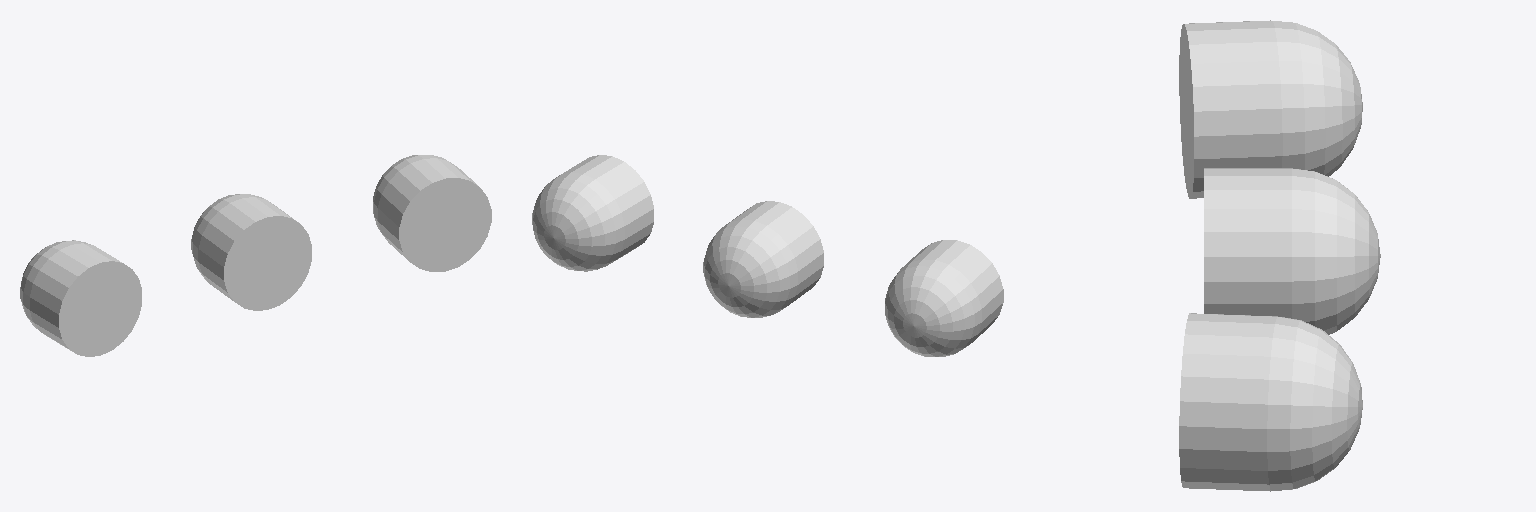
URDF robot description (allegro_hand_right):
<?xml version="1.0" ?>
<!-- =================================================================================== -->
<!-- |    This document was autogenerated by xacro from allegro_hand_description_right.xacro | -->
<!-- |    EDITING THIS FILE BY HAND IS NOT RECOMMENDED                                 | -->
<!-- =================================================================================== -->
<robot name="allegro_hand_right">
  <link name="world"/>
  <link name="palm_link_floating"/>
  <joint name="arm_to_world_floating" type="floating">
    <parent link="world"/>
    <child link="palm_link_floating"/>
    <origin xyz="0 0 0" rpy="0 0 0" />
  </joint>


    <!-- <origin xyz="0 0.02 -0.015" rpy="-1.5707963267948966 -1.5707963267948966 0" /> -->

  <joint name="floating_to_palm" type="fixed">
    <parent link="palm_link_floating"/>
    <child link="palm_link"/>
    <origin xyz="0 0.02 -0.015" rpy="-1.5707963267948966 -1.5707963267948966 0" />
  </joint> 

  <!-- ======================== BASE PARAMS ========================= -->
  <!-- ======================== FINGER PARAMS ======================== -->
  <!-- full height from joint to tip. when used,
    the radius of the finger tip sphere will be subtracted
    and one fixed link will be added for the tip. -->
  <!-- ========================= THUMB PARAMS ========================= -->
  <!-- ========================= LIMITS ========================= -->
  <!-- ============================================================================= -->
  <!-- PALM -->
  <link name="palm_link">
    <visual>
      <geometry>
        <mesh filename="meshes/base_link.STL"/>
      </geometry>
      <origin rpy="0 0 0" xyz="0 0 0 "/>
      <material name="black">
        <color rgba="0.2 0.2 0.2 1"/>
      </material>
    </visual>
    <collision>
      <origin rpy="0 0 0" xyz="-0.009300 0 -0.0475"/>
      <geometry>
        <box size="0.0408 0.1130 0.095"/>
        <!-- <sphere radius="0.002"/> -->
      </geometry>
    </collision>
    <inertial>
      <origin rpy="0 0 0" xyz="0 0 0.0475"/>
      <mass value="0.4154"/>
      <inertia ixx="1e-4" ixy="0.0" ixz="0.0" iyy="1e-4" iyz="0.0" izz="1e-4"/>
    </inertial>
  </link>
  <!-- ============================================================================= -->
  <!-- FINGERS -->
  <!-- RIGHT HAND due to which finger is number 0 -->
  <!-- for LEFT HAND switch the sign of the **offset_origin_y** and **finger_angle_r** parameters-->
  <!-- [LINK 0, 4, 8] -->
  <link name="link_0.0">
    <visual>
      <geometry>
        <mesh filename="meshes/link_0.0.STL"/>
      </geometry>
      <material name="black"/>
    </visual>
    <collision>
      <geometry>
        <box size="0.0196 0.0275 0.0164"/>
        <!-- <sphere radius="0.002"/> -->
      </geometry>
      <origin rpy="0 0 0" xyz="0 0 0.0082"/>
    </collision>
    <inertial>
      <mass value="0.0119"/>
      <origin rpy="0 0 0" xyz="0 0 0"/>
      <inertia ixx="1.01666658333e-06" ixy="0.0" ixz="0.0" iyy="6.47677333333e-07" iyz="0.0" izz="1.01666658333e-06"/>
    </inertial>
  </link>
  <joint name="joint_0.0" type="revolute">
    <axis xyz="0 0 1"/>
    <limit effort="15" lower="-0.47" upper="0.47" velocity="7"/>
    <parent link="palm_link"/>
    <child link="link_0.0"/>
    <origin rpy="-0.08726646255 0 0" xyz="0 0.0435 -0.001542"/>
    <dynamics damping="0.0414019" friction="0.0523963"/>
  </joint>
  <!-- [LINK 1, 5, 9] -->
  <link name="link_1.0">
    <visual>
      <geometry>
        <mesh filename="meshes/link_1.0.STL"/>
      </geometry>
      <material name="black"/>
    </visual>
    <collision>
      <geometry>
        <box size="0.0196 0.0275 0.054"/>
        <!-- <sphere radius="0.002"/> -->
      </geometry>
      <origin rpy="0 0 0" xyz="0 0 0.027"/>
    </collision>
    <inertial>
      <mass value="0.065"/>
      <origin rpy="0 0 0" xyz="0 0 0"/>
      <inertia ixx="7.95654166667e-05" ixy="1.7199e-05" ixz="8.75875e-06" iyy="2.47088833333e-05" iyz="2.413125e-05" izz="7.95654166667e-05"/>
    </inertial>
  </link>
  <joint name="joint_1.0" type="revolute">
    <limit effort="15" lower="-0.196" upper="1.61" velocity="7"/>
    <axis xyz="0 1 0"/>
    <parent link="link_0.0"/>
    <child link="link_1.0"/>
    <origin xyz="0 0 0.0164"/>
    <dynamics damping="0.00587541" friction="0.0150275"/>
  </joint>
  <!-- [LINK 2, 6, 10]-->
  <link name="link_2.0">
    <visual>
      <geometry>
        <mesh filename="meshes/link_2.0.STL"/>
      </geometry>
      <material name="black"/>
    </visual>
    <collision>
      <geometry>
        <box size="0.0196 0.0275 0.0384"/>
        <!-- <sphere radius="0.002"/> -->
      </geometry>
      <origin rpy="0 0 0" xyz="0 0 0.0192"/>
    </collision>
    <inertial>
      <mass value="0.0355"/>
      <origin rpy="0 0 0" xyz="0 0 0"/>
      <inertia ixx="2.63979183333e-05" ixy="6.67968e-06" ixz="4.783625e-06" iyy="1.34948516667e-05" iyz="9.372e-06" izz="2.63979183333e-05"/>
    </inertial>
  </link>
  <joint name="joint_2.0" type="revolute">
    <axis xyz="0 1 0"/>
    <limit effort="15" lower="-0.174" upper="1.709" velocity="7"/>
    <parent link="link_1.0"/>
    <child link="link_2.0"/>
    <origin xyz="0 0 0.054"/>
    <dynamics damping="0.010638" friction="0.00616359"/>
  </joint>
  <!-- [LINK 3, 7, 11] -->
  <link name="link_3.0">
    <visual>
      <geometry>
        <mesh filename="meshes/link_3.0.STL"/>
      </geometry>
      <material name="black"/>
    </visual>
    <collision>
      <geometry>
        <box size="0.0196 0.0275 0.01335"/>
        <!-- <sphere radius="0.002"/> -->
      </geometry>
      <origin rpy="0 0 0" xyz="0 0 0.006675"/>
    </collision>
    <inertial>
      <mass value="0.0096"/>
      <origin rpy="0 0 0" xyz="0 0 0"/>
      <inertia ixx="4.701248e-06" ixy="1.255968e-06" ixz="1.2936e-06" iyy="3.649312e-06" iyz="1.7622e-06" izz="4.701248e-06"/>
    </inertial>
  </link>
  <joint name="joint_3.0" type="revolute">
    <axis xyz="0 1 0"/>
    <limit effort="15" lower="-0.227" upper="1.618" velocity="7"/>
    <parent link="link_2.0"/>
    <child link="link_3.0"/>
    <origin xyz="0 0 0.0384"/>
    <dynamics damping="0.0226948" friction="0.0227036"/>
  </joint>
  <!-- [FINGER TIP] -->
  <link name="link_3.0_tip">
    <visual>
      <geometry>
        <mesh filename="meshes/link_3.0_tip_offset.STL"/>
      </geometry>
      <material name="white">
        <color rgba=".9 .9 .9 1"/>
      </material>
    </visual>
    <collision>
      <geometry>
        <sphere radius="0.014"/>
      </geometry>
      <origin rpy="0 0 0" xyz="0 0 0.0"/>
    </collision>
    <inertial>
      <mass value="0.0168"/>
      <origin rpy="0 0 0" xyz="0 0 0"/>
      <inertia ixx="9.68e-07" ixy="0" ixz="0" iyy="9.68e-07" iyz="0" izz="9.68e-07"/>
    </inertial>
    <!-- <contact>
			<friction_anchor/>
			<stiffness value="30000.0"/>
			<damping value="1000.0"/>
			<spinning_friction value="0.1"/>
			<lateral_friction value="1.0"/>
		</contact> -->
  </link>
  <joint name="joint_3.0_tip" type="fixed">
    <parent link="link_3.0"/>
    <child link="link_3.0_tip"/>
    <origin rpy="0 0 0" xyz="0 0 0.0287"/>
  </joint>
  <!-- [LINK 0, 4, 8] -->
  <link name="link_4.0">
    <visual>
      <geometry>
        <mesh filename="meshes/link_0.0.STL"/>
      </geometry>
      <material name="black"/>
    </visual>
    <collision>
      <geometry>
        <box size="0.0196 0.0275 0.0164"/>
        <!-- <sphere radius="0.002"/> -->
      </geometry>
      <origin rpy="0 0 0" xyz="0 0 0.0082"/>
    </collision>
    <inertial>
      <mass value="0.0119"/>
      <origin rpy="0 0 0" xyz="0 0 0"/>
      <inertia ixx="1.01666658333e-06" ixy="0.0" ixz="0.0" iyy="6.47677333333e-07" iyz="0.0" izz="1.01666658333e-06"/>
    </inertial>
  </link>
  <joint name="joint_4.0" type="revolute">
    <axis xyz="0 0 1"/>
    <limit effort="15" lower="-0.47" upper="0.47" velocity="7"/>
    <parent link="palm_link"/>
    <child link="link_4.0"/>
    <origin rpy="0.0 0 0" xyz="0 0 0.0007"/>
    <dynamics damping="0.0414019" friction="0.0523963"/>
  </joint>
  <!-- [LINK 1, 5, 9] -->
  <link name="link_5.0">
    <visual>
      <geometry>
        <mesh filename="meshes/link_1.0.STL"/>
      </geometry>
      <material name="black"/>
    </visual>
    <collision>
      <geometry>
        <box size="0.0196 0.0275 0.054"/>
        <!-- <sphere radius="0.002"/> -->
      </geometry>
      <origin rpy="0 0 0" xyz="0 0 0.027"/>
    </collision>
    <inertial>
      <mass value="0.065"/>
      <origin rpy="0 0 0" xyz="0 0 0"/>
      <inertia ixx="7.95654166667e-05" ixy="1.7199e-05" ixz="8.75875e-06" iyy="2.47088833333e-05" iyz="2.413125e-05" izz="7.95654166667e-05"/>
    </inertial>
  </link>
  <joint name="joint_5.0" type="revolute">
    <limit effort="15" lower="-0.196" upper="1.61" velocity="7"/>
    <axis xyz="0 1 0"/>
    <parent link="link_4.0"/>
    <child link="link_5.0"/>
    <origin xyz="0 0 0.0164"/>
    <dynamics damping="0.00587541" friction="0.0150275"/>
  </joint>
  <!-- [LINK 2, 6, 10]-->
  <link name="link_6.0">
    <visual>
      <geometry>
        <mesh filename="meshes/link_2.0.STL"/>
      </geometry>
      <material name="black"/>
    </visual>
    <collision>
      <geometry>
        <box size="0.0196 0.0275 0.0384"/>
        <!-- <sphere radius="0.002"/> -->
      </geometry>
      <origin rpy="0 0 0" xyz="0 0 0.0192"/>
    </collision>
    <inertial>
      <mass value="0.0355"/>
      <origin rpy="0 0 0" xyz="0 0 0"/>
      <inertia ixx="2.63979183333e-05" ixy="6.67968e-06" ixz="4.783625e-06" iyy="1.34948516667e-05" iyz="9.372e-06" izz="2.63979183333e-05"/>
    </inertial>
  </link>
  <joint name="joint_6.0" type="revolute">
    <axis xyz="0 1 0"/>
    <limit effort="15" lower="-0.174" upper="1.709" velocity="7"/>
    <parent link="link_5.0"/>
    <child link="link_6.0"/>
    <origin xyz="0 0 0.054"/>
    <dynamics damping="0.010638" friction="0.00616359"/>
  </joint>
  <!-- [LINK 3, 7, 11] -->
  <link name="link_7.0">
    <visual>
      <geometry>
        <mesh filename="meshes/link_3.0.STL"/>
      </geometry>
      <material name="black"/>
    </visual>
    <collision>
      <geometry>
        <box size="0.0196 0.0275 0.01335"/>
        <!-- <sphere radius="0.002"/> -->
      </geometry>
      <origin rpy="0 0 0" xyz="0 0 0.006675"/>
    </collision>
    <inertial>
      <mass value="0.0096"/>
      <origin rpy="0 0 0" xyz="0 0 0"/>
      <inertia ixx="4.701248e-06" ixy="1.255968e-06" ixz="1.2936e-06" iyy="3.649312e-06" iyz="1.7622e-06" izz="4.701248e-06"/>
    </inertial>
  </link>
  <joint name="joint_7.0" type="revolute">
    <axis xyz="0 1 0"/>
    <limit effort="15" lower="-0.227" upper="1.618" velocity="7"/>
    <parent link="link_6.0"/>
    <child link="link_7.0"/>
    <origin xyz="0 0 0.0384"/>
    <dynamics damping="0.0226948" friction="0.0227036"/>
  </joint>
  <!-- [FINGER TIP] -->
  <link name="link_7.0_tip">
    <visual>
      <geometry>
        <mesh filename="meshes/link_3.0_tip_offset.STL"/>
      </geometry>
      <material name="white">
        <color rgba=".9 .9 .9 1"/>
      </material>
    </visual>
    <collision>
      <geometry>
        <sphere radius="0.014"/>
      </geometry>
      <origin rpy="0 0 0" xyz="0 0 0.0"/>
    </collision>
    <inertial>
      <mass value="0.0168"/>
      <origin rpy="0 0 0" xyz="0 0 0"/>
      <inertia ixx="9.68e-07" ixy="0" ixz="0" iyy="9.68e-07" iyz="0" izz="9.68e-07"/>
    </inertial>
    <!-- <contact>
			<friction_anchor/>
			<stiffness value="30000.0"/>
			<damping value="1000.0"/>
			<spinning_friction value="0.1"/>
			<lateral_friction value="1.0"/>
		</contact> -->
  </link>
  <joint name="joint_7.0_tip" type="fixed">
    <parent link="link_7.0"/>
    <child link="link_7.0_tip"/>
    <origin rpy="0 0 0" xyz="0 0 0.0287"/>
  </joint>
  <!-- [LINK 0, 4, 8] -->
  <link name="link_8.0">
    <visual>
      <geometry>
        <mesh filename="meshes/link_0.0.STL"/>
      </geometry>
      <material name="black"/>
    </visual>
    <collision>
      <geometry>
        <box size="0.0196 0.0275 0.0164"/>
        <!-- <sphere radius="0.002"/> -->
      </geometry>
      <origin rpy="0 0 0" xyz="0 0 0.0082"/>
    </collision>
    <inertial>
      <mass value="0.0119"/>
      <origin rpy="0 0 0" xyz="0 0 0"/>
      <inertia ixx="1.01666658333e-06" ixy="0.0" ixz="0.0" iyy="6.47677333333e-07" iyz="0.0" izz="1.01666658333e-06"/>
    </inertial>
  </link>
  <joint name="joint_8.0" type="revolute">
    <axis xyz="0 0 1"/>
    <limit effort="15" lower="-0.47" upper="0.47" velocity="7"/>
    <parent link="palm_link"/>
    <child link="link_8.0"/>
    <origin rpy="0.08726646255 0 0" xyz="0 -0.0435 -0.001542"/>
    <dynamics damping="0.0414019" friction="0.0523963"/>
  </joint>
  <!-- [LINK 1, 5, 9] -->
  <link name="link_9.0">
    <visual>
      <geometry>
        <mesh filename="meshes/link_1.0.STL"/>
      </geometry>
      <material name="black"/>
    </visual>
    <collision>
      <geometry>
        <box size="0.0196 0.0275 0.054"/>
        <!-- <sphere radius="0.002"/> -->
      </geometry>
      <origin rpy="0 0 0" xyz="0 0 0.027"/>
    </collision>
    <inertial>
      <mass value="0.065"/>
      <origin rpy="0 0 0" xyz="0 0 0"/>
      <inertia ixx="7.95654166667e-05" ixy="1.7199e-05" ixz="8.75875e-06" iyy="2.47088833333e-05" iyz="2.413125e-05" izz="7.95654166667e-05"/>
    </inertial>
  </link>
  <joint name="joint_9.0" type="revolute">
    <limit effort="15" lower="-0.196" upper="1.61" velocity="7"/>
    <axis xyz="0 1 0"/>
    <parent link="link_8.0"/>
    <child link="link_9.0"/>
    <origin xyz="0 0 0.0164"/>
    <dynamics damping="0.00587541" friction="0.0150275"/>
  </joint>
  <!-- [LINK 2, 6, 10]-->
  <link name="link_10.0">
    <visual>
      <geometry>
        <mesh filename="meshes/link_2.0.STL"/>
      </geometry>
      <material name="black"/>
    </visual>
    <collision>
      <geometry>
        <box size="0.0196 0.0275 0.0384"/>
        <!-- <sphere radius="0.002"/> -->
      </geometry>
      <origin rpy="0 0 0" xyz="0 0 0.0192"/>
    </collision>
    <inertial>
      <mass value="0.0355"/>
      <origin rpy="0 0 0" xyz="0 0 0"/>
      <inertia ixx="2.63979183333e-05" ixy="6.67968e-06" ixz="4.783625e-06" iyy="1.34948516667e-05" iyz="9.372e-06" izz="2.63979183333e-05"/>
    </inertial>
  </link>
  <joint name="joint_10.0" type="revolute">
    <axis xyz="0 1 0"/>
    <limit effort="15" lower="-0.174" upper="1.709" velocity="7"/>
    <parent link="link_9.0"/>
    <child link="link_10.0"/>
    <origin xyz="0 0 0.054"/>
    <dynamics damping="0.010638" friction="0.00616359"/>
  </joint>
  <!-- [LINK 3, 7, 11] -->
  <link name="link_11.0">
    <visual>
      <geometry>
        <mesh filename="meshes/link_3.0.STL"/>
      </geometry>
      <material name="black"/>
    </visual>
    <collision>
      <geometry>
        <box size="0.0196 0.0275 0.01335"/>
        <!-- <sphere radius="0.002"/> -->
      </geometry>
      <origin rpy="0 0 0" xyz="0 0 0.006675"/>
    </collision>
    <inertial>
      <mass value="0.0096"/>
      <origin rpy="0 0 0" xyz="0 0 0"/>
      <inertia ixx="4.701248e-06" ixy="1.255968e-06" ixz="1.2936e-06" iyy="3.649312e-06" iyz="1.7622e-06" izz="4.701248e-06"/>
    </inertial>
  </link>
  <joint name="joint_11.0" type="revolute">
    <axis xyz="0 1 0"/>
    <limit effort="15" lower="-0.227" upper="1.618" velocity="7"/>
    <parent link="link_10.0"/>
    <child link="link_11.0"/>
    <origin xyz="0 0 0.0384"/>
    <dynamics damping="0.0226948" friction="0.0227036"/>
  </joint>
  <!-- [FINGER TIP] -->
  <link name="link_11.0_tip">
    <visual>
      <geometry>
        <mesh filename="meshes/link_3.0_tip_offset.STL"/>
      </geometry>
      <material name="white">
        <color rgba=".9 .9 .9 1"/>
      </material>
    </visual>
    <collision>
      <geometry>
        <sphere radius="0.014"/>
        <!-- <capsule radius="0.014" length="0.014"/> -->
      </geometry>
      <origin rpy="0 0 0" xyz="0 0 0.0"/>
    </collision>
    <inertial>
      <mass value="0.0168"/>
      <origin rpy="0 0 0" xyz="0 0 0"/>
      <inertia ixx="9.68e-07" ixy="0" ixz="0" iyy="9.68e-07" iyz="0" izz="9.68e-07"/>
    </inertial>
    <!-- <contact>
			<friction_anchor/>
			<stiffness value="30000.0"/>
			<damping value="1000.0"/>
			<spinning_friction value="0.1"/>
			<lateral_friction value="1.0"/>
		</contact> -->
  </link>
  <joint name="joint_11.0_tip" type="fixed">
    <parent link="link_11.0"/>
    <child link="link_11.0_tip"/>
    <origin rpy="0 0 0" xyz="0 0 0.0287"/>
  </joint>
  <!-- THUMB -->
  <!-- [LINK 12] -->
  <link name="link_12.0">
    <visual>
      <geometry>
        <mesh filename="meshes/link_12.0_right.STL"/>
      </geometry>
      <material name="black">
        <color rgba=".2 .2 .2 1"/>
      </material>
      <!-- <origin rpy="3.1415926518 0 0" xyz="0 0 0"/> -->
      <origin rpy="0 0 0" xyz="0 0 0"/>
    </visual>
    <collision>
      <geometry>
        <box size="0.0358 0.034 0.0455"/>
        <!-- <sphere radius="0.002"/> -->
      </geometry>
      <origin rpy="0 0 0" xyz="-0.0179 0.009 0.0145"/>
    </collision>
    <inertial>
      <mass value="0.0176"/>
      <origin rpy="0 0 0" xyz="0 0 0"/>
      <inertia ixx="1.89273333333e-5" ixy="7.16716e-06" ixz="5.35568e-06" iyy="1.43008213333e-05" iyz="6.8068e-06" izz="1.89273333333e-05"/>
    </inertial>
  </link>
  <joint name="joint_12.0" type="revolute">
    <axis xyz="-1 0 0"/>
    <limit effort="15" lower="0.263" upper="1.396" velocity="7"/>
    <parent link="palm_link"/>
    <child link="link_12.0"/>
    <origin rpy="0 -1.65806278845 -1.5707963259" xyz="-0.0182 0.019333 -0.045987"/>
    <!-- <dynamics friction="0.035"/> -->
    <dynamics damping="0.0414019" friction="0.0523963"/>
  </joint>
  <!-- [LINK 13] -->
  <link name="link_13.0">
    <visual>
      <geometry>
        <mesh filename="meshes/link_13.0.STL"/>
      </geometry>
      <material name="black">
        <color rgba=".2 .2 .2 1"/>
      </material>
    </visual>
    <collision>
      <geometry>
        <box size="0.0196 0.0275 0.0177"/>
        <!-- <sphere radius="0.002"/> -->
      </geometry>
      <origin rpy="0 0 0" xyz="0 0 0.00885"/>
    </collision>
    <inertial>
      <mass value="0.0119"/>
      <origin rpy="0 0 0" xyz="0 0 0"/>
      <inertia ixx="4.24250866667e-06" ixy="1.032087e-06" ixz="1.603525e-06" iyy="4.52362633333e-06" iyz="1.44808125e-06" izz="4.24250866667e-06"/>
    </inertial>
  </link>
  <joint name="joint_13.0" type="revolute">
    <axis xyz="0 0 1"/>
    <limit effort="15" lower="-0.105" upper="1.163" velocity="7"/>
    <parent link="link_12.0"/>
    <child link="link_13.0"/>
    <origin xyz="-0.027 0.005 0.0399"/>
    <!-- <dynamics friction="0.035"/> -->
    <dynamics damping="0.00587541" friction="0.0150275"/>
  </joint>
  <!-- [LINK 14] -->
  <link name="link_14.0">
    <visual>
      <geometry>
        <mesh filename="meshes/link_14.0.STL"/>
      </geometry>
      <material name="black">
                </material>
    </visual>
    <collision>
      <geometry>
        <box size="0.0196 0.0275 0.0514"/>
        <!-- <sphere radius="0.002"/> -->
      </geometry>
      <origin rpy="0 0 0" xyz="0 0 0.0257"/>
    </collision>
    <inertial>
      <mass value="0.038"/>
      <origin rpy="0 0 0" xyz="0 0 0"/>
      <inertia ixx="4.30439933333e-05" ixy="9.57068e-06" ixz="5.1205e-06" iyy="1.44451933333e-05" iyz="1.342825e-05" izz="4.30439933333e-05"/>
    </inertial>
  </link>
  <joint name="joint_14.0" type="revolute">
    <axis xyz="0 1 0"/>
    <limit effort="15" lower="-0.189" upper="1.644" velocity="7"/>
    <parent link="link_13.0"/>
    <child link="link_14.0"/>
    <origin xyz="0 0 0.0177"/>
    <!-- <dynamics friction="0.035"/> -->
    <dynamics damping="0.010638" friction="0.00616359"/>
  </joint>
  <!-- [LINK 15] -->
  <link name="link_15.0">
    <visual>
      <geometry>
        <mesh filename="meshes/link_15.0.STL"/>
      </geometry>
      <material name="black">
      </material>
    </visual>
    <collision>
      <geometry>
        <box size="0.0196 0.0275 0.0283"/>
        <!-- <sphere radius="0.002"/> -->
      </geometry>
      <origin rpy="0 0 0" xyz="0 0 0.01415"/>
    </collision>
    <inertial>
      <mass value="0.0388"/>
      <origin rpy="0 0 0" xyz="0 0 0"/>
      <inertia ixx="3.29223173333e-05" ixy="8.042076e-06" ixz="5.2283e-06" iyy="1.47493026667e-5" iyz="1.1283525e-5" izz="3.29223173333e-05"/>
    </inertial>
  </link>
  <joint name="joint_15.0" type="revolute">
    <axis xyz="0 1 0"/>
    <limit effort="15" lower="-0.162" upper="1.719" velocity="7"/>
    <parent link="link_14.0"/>
    <child link="link_15.0"/>
    <origin xyz="0 0 0.0514"/>
    <!-- <dynamics friction="0.035"/> -->
    <dynamics damping="0.0226948" friction="0.0227036"/>
  </joint>
  <!-- [FINGER TIP] -->
  <link name="link_15.0_tip">
    <visual>
      <geometry>
        <mesh filename="meshes/link_15.0_tip_offset.STL"/>
      </geometry>
      <material name="white">
        <color rgba=".9 .9 .9 1"/>
      </material>
    </visual>
    <collision>
      <geometry>
        <sphere radius="0.014"/>
      </geometry>
      <origin rpy="0 0 0" xyz="0 0 0.0"/>
    </collision>
    <inertial>
      <mass value="0.0168"/>
      <origin rpy="0 0 0" xyz="0 0 0"/>
      <inertia ixx="9.68e-07" ixy="0" ixz="0" iyy="9.68e-07" iyz="0" izz="9.68e-07"/>
    </inertial>
    <!-- <contact>
			<friction_anchor/>
			<stiffness value="30000.0"/>
			<damping value="1000.0"/>
			<spinning_friction value="0.1"/>
			<lateral_friction value="1.0"/>
		</contact> -->
  </link>
  <joint name="joint_15.0_tip" type="fixed">
    <parent link="link_15.0"/>
    <child link="link_15.0_tip"/>
    <origin rpy="0 0 0" xyz="0 0 0.0443"/>
  </joint>
  <!-- ============================================================================= -->
  <!-- THUMB MACRO -->
  <!-- END THUMB MACRO -->
  <!-- THREE FINGER MACRO -->
  <!-- [[END]] THREE FINGER MACRO -->
</robot>

--- What the picture shows (computed from the rendered views, not written in the file) ---
3 views of the same robot in one strip: view 1: azimuth 30°, elevation 25°; view 2: azimuth 150°, elevation 25°; view 3: azimuth 270°, elevation 25° (orthographic).
Model allegro_hand_right with 23 links and 22 joints (16 revolute, 5 fixed, 1 floating), rooted at world, posed joints at zero except 1 at the middle of their limits (joint_12.0 = 0.8295).
Visible links, largest first — view 1: link_11.0_tip, link_7.0_tip, link_3.0_tip; view 2: link_3.0_tip, link_7.0_tip, link_11.0_tip; view 3: link_3.0_tip, link_11.0_tip, link_7.0_tip.
Link boxes in pixels (x1=…): link_11.0_tip: x1=20, y1=240, x2=141, y2=356; link_7.0_tip: x1=191, y1=194, x2=311, y2=310; link_3.0_tip: x1=373, y1=155, x2=491, y2=271; link_3.0_tip: x1=532, y1=155, x2=653, y2=271; link_7.0_tip: x1=703, y1=201, x2=823, y2=317; link_11.0_tip: x1=885, y1=240, x2=1003, y2=356; link_3.0_tip: x1=1179, y1=313, x2=1362, y2=491; link_11.0_tip: x1=1179, y1=20, x2=1362, y2=198; link_7.0_tip: x1=1204, y1=168, x2=1380, y2=334.
Bounding box of the posed robot: 0.1386 × 0.0319 × 0.028 m (x, y, z).
3 mesh visuals loaded from 11 distinct referenced files (1 binary STL); not drawn: 18 (reference not matched to a file when rendering).